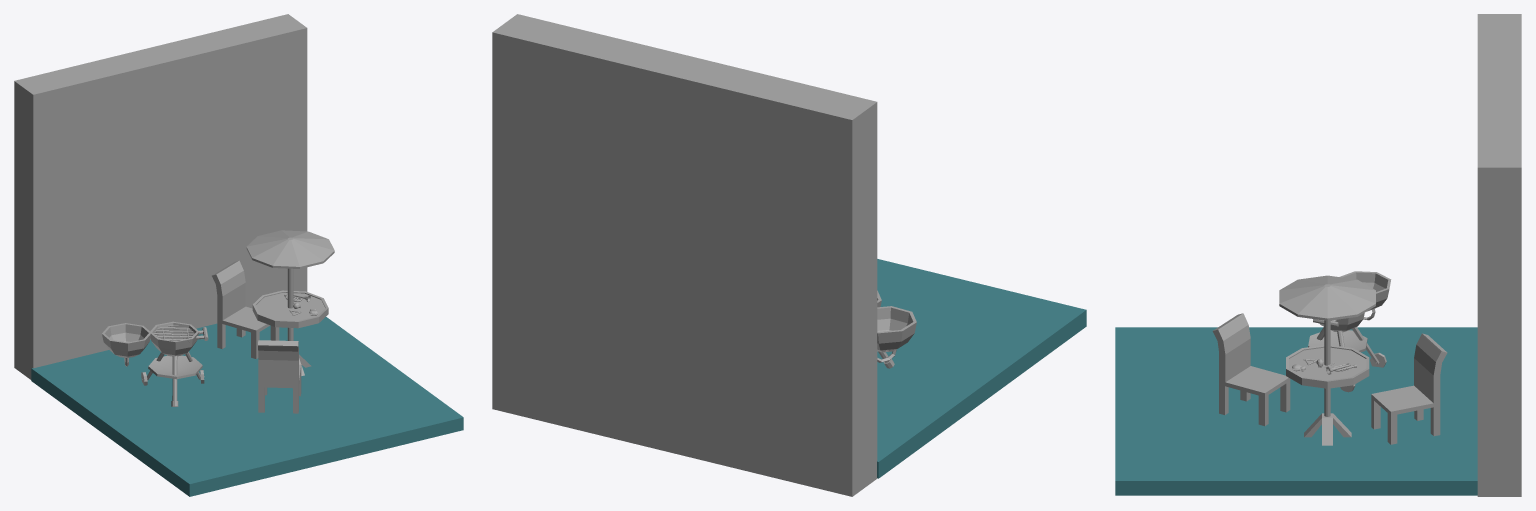
The model's file is Derrota.fbx.
3 views of the same model, side by side, from view 1: azimuth 30°, elevation 25°; view 2: azimuth 150°, elevation 25°; view 3: azimuth 270°, elevation 25° (orthographic). The views are drawn at different scales.
Parts seen in each view (by area): view 1: pasted__Pared16, pasted__Suelo4, MesaSombrilla1, Parrilla1, Silla4, Silla3; view 2: pasted__Pared16, pasted__Suelo4, Parrilla1; view 3: pasted__Suelo4, pasted__Pared16, MesaSombrilla1, Silla3, Silla4, Parrilla1.
Part boxes in pixels (<box>): pasted__Pared16: <box>14,14,307,379</box>; pasted__Suelo4: <box>31,317,463,496</box>; MesaSombrilla1: <box>246,230,334,375</box>; Parrilla1: <box>102,321,208,406</box>; Silla4: <box>212,260,279,359</box>; Silla3: <box>258,340,301,413</box>; pasted__Pared16: <box>492,14,877,496</box>; pasted__Suelo4: <box>877,259,1086,478</box>; Parrilla1: <box>877,290,916,368</box>; pasted__Suelo4: <box>1115,327,1477,495</box>; pasted__Pared16: <box>1477,14,1521,496</box>; MesaSombrilla1: <box>1279,275,1375,445</box>; Silla3: <box>1212,313,1290,426</box>; Silla4: <box>1371,333,1447,444</box>; Parrilla1: <box>1308,271,1391,392</box>.
Bounding box in the file's own units: 22.68 × 22.57 × 25.23.
